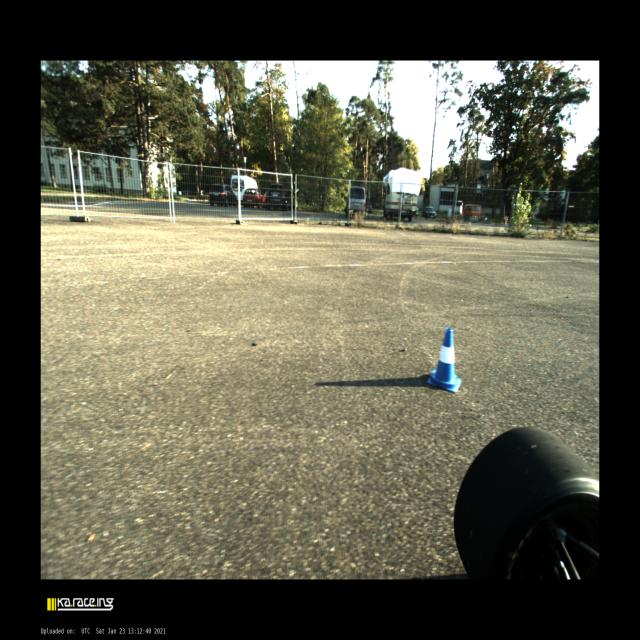blue_cone: (427, 328, 461, 392)
